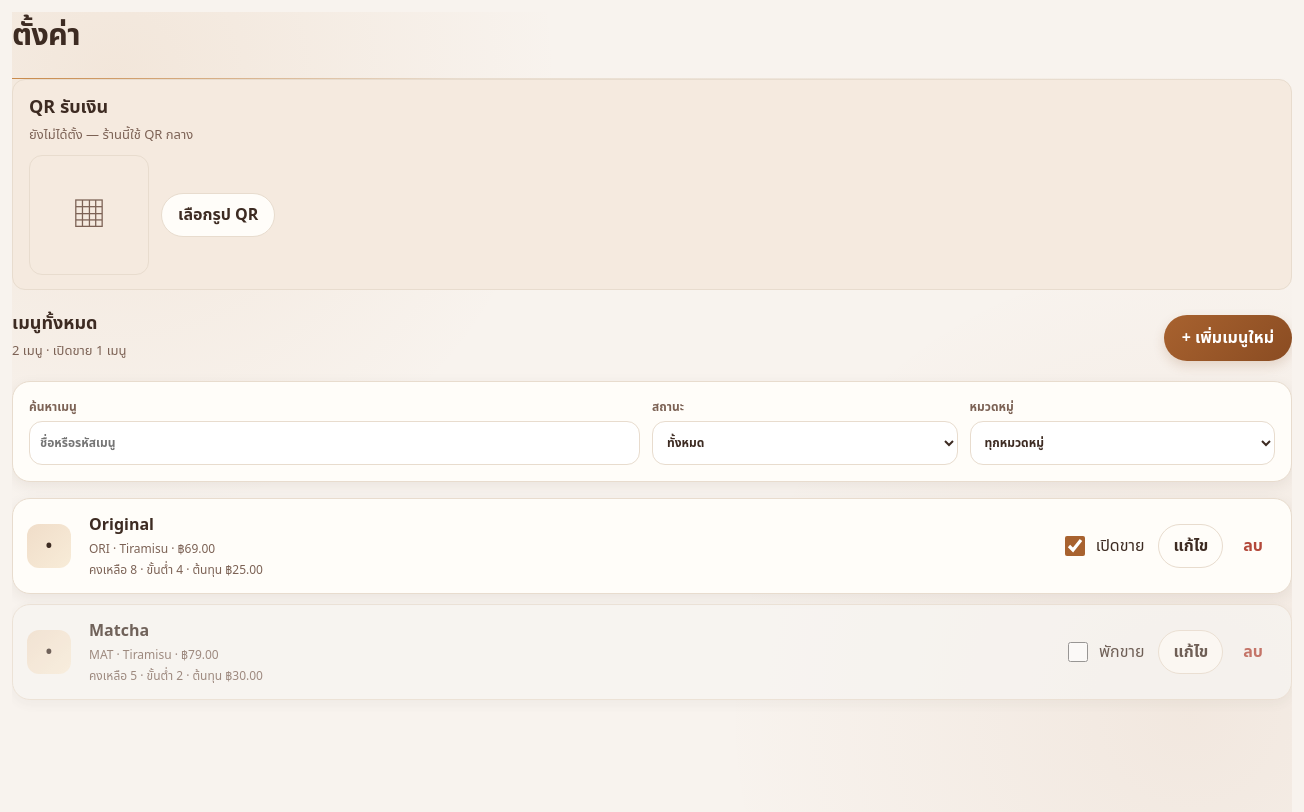
it: ProductsAdminPage › lists active and inactive products and filters by search and status
Expected: the text "Original" is shown, [89,513,154,537]
Expected: the text "Matcha" is shown, [89,619,149,643]
Type "mat" into the search field labelled "ค้นหาเมนู" at (334, 443), box [29,421,640,465]
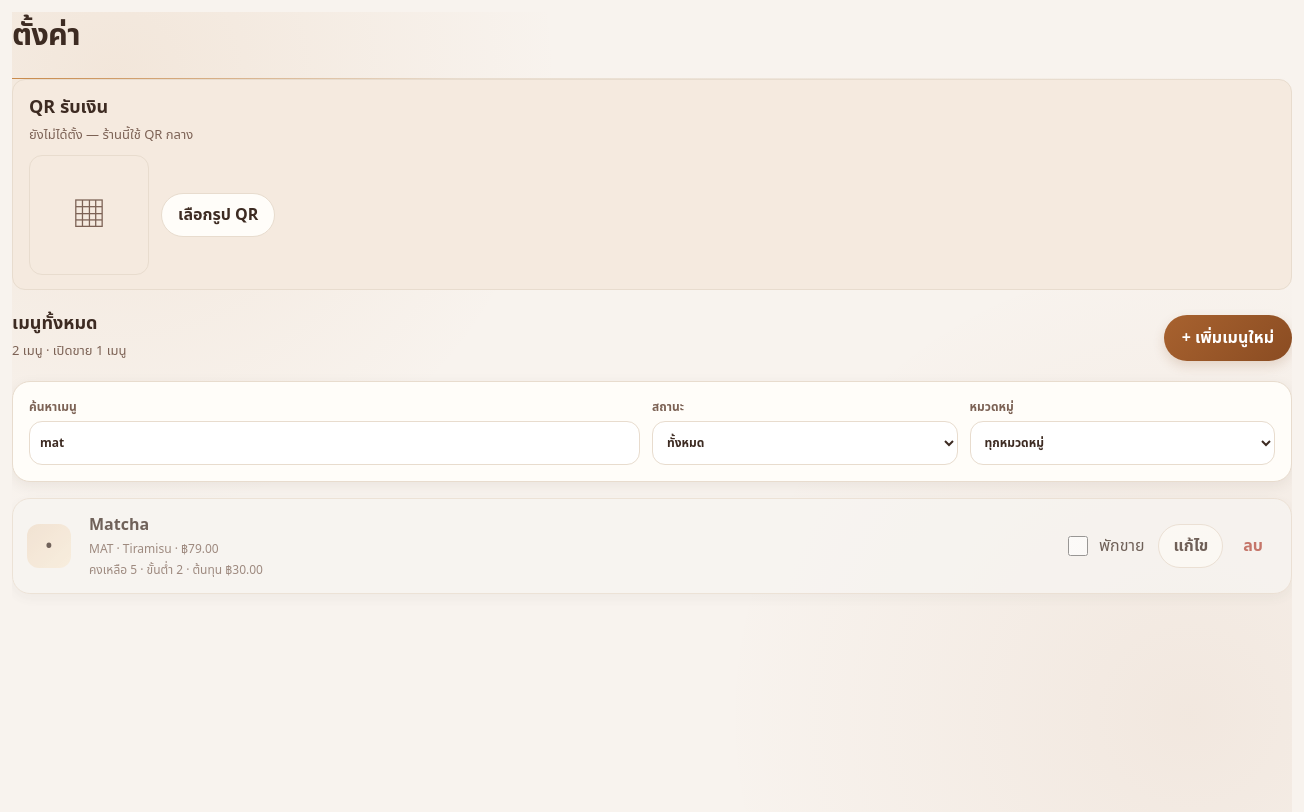
Expected: the text "Matcha" is shown, [89,513,149,537]
Result: the text "Original" is gone
Clear the search field labelled "ค้นหาเมนู" at (334, 443), box [29,421,640,465]
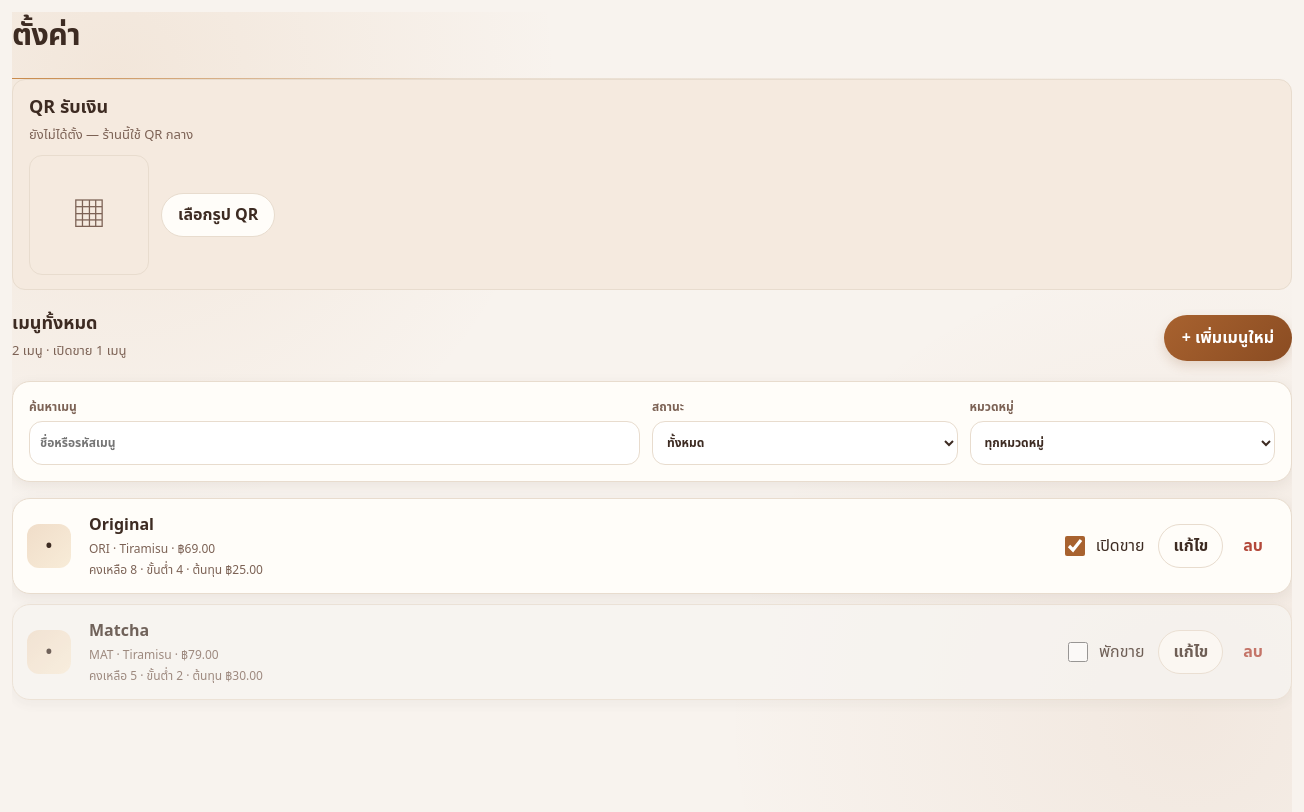
Select "เปิดขาย" in the dropdown labelled "สถานะ" at (805, 443), box [652,421,958,465]
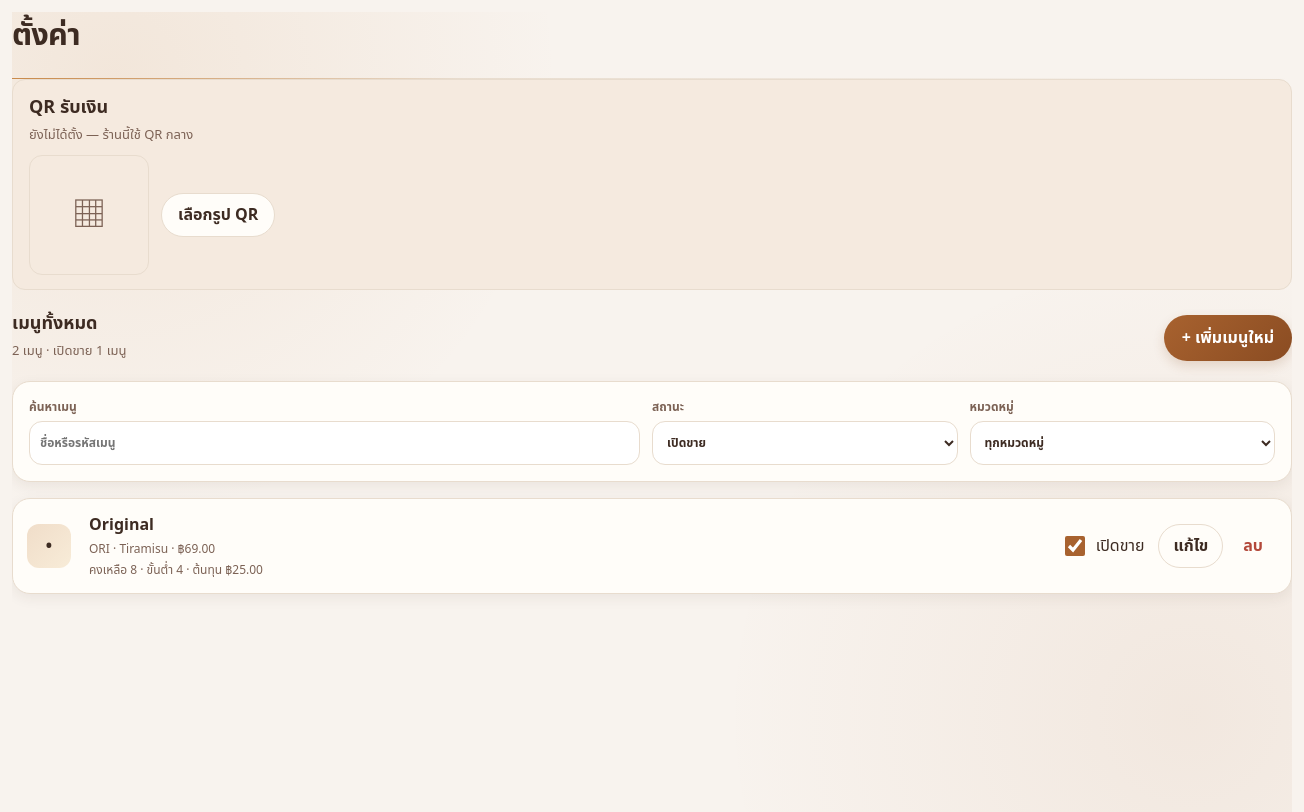
Result: the text "Original" is shown at [89,513,154,537]
Result: the text "Matcha" is gone
